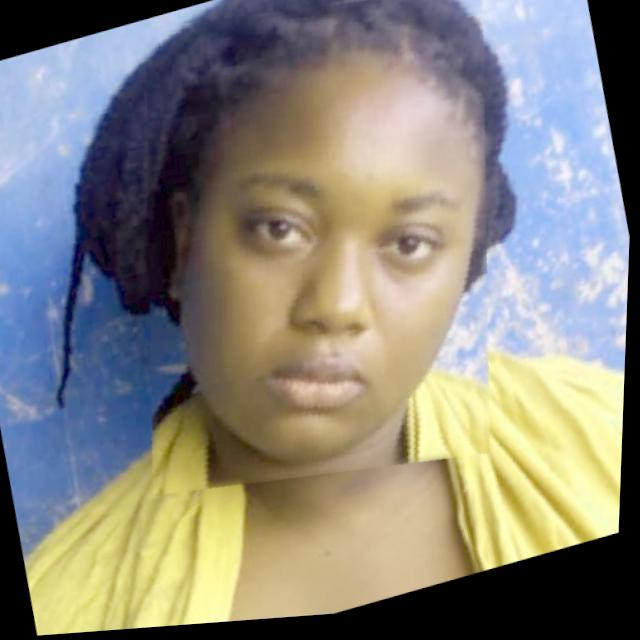sad: (78, 0, 560, 539)
